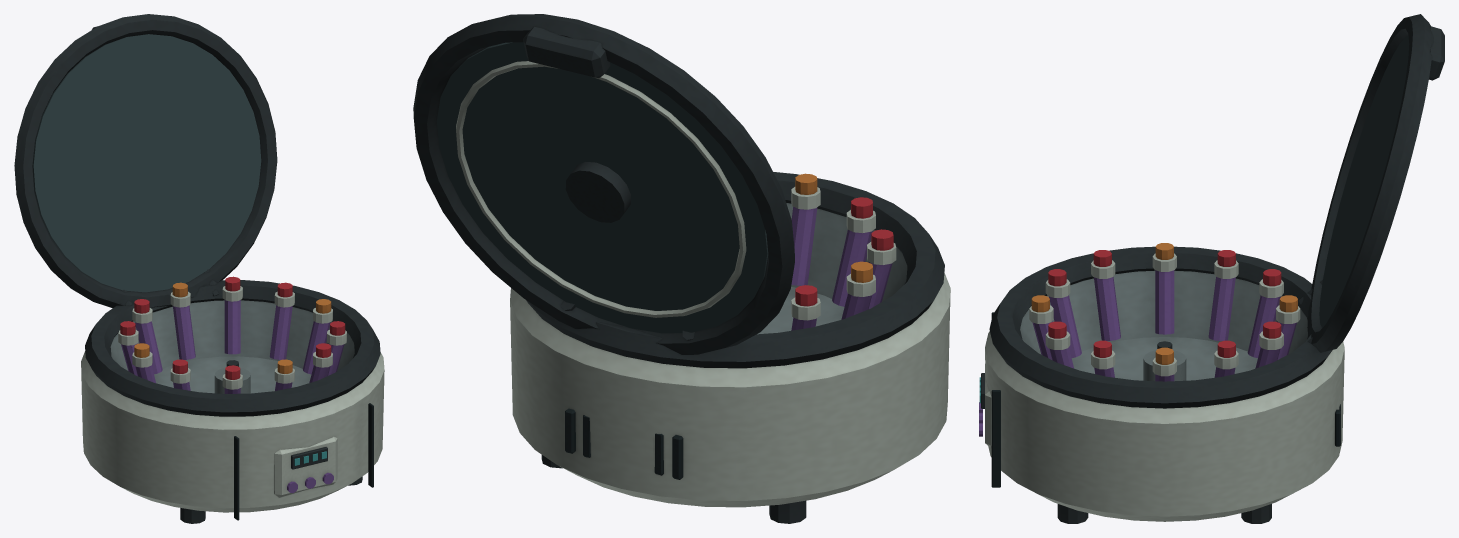
File: centrifuge.obj
3 views of the same model, side by side, from view 1: azimuth 30°, elevation 25°; view 2: azimuth 150°, elevation 25°; view 3: azimuth 270°, elevation 25° (orthographic). The views are drawn at different scales.
Parts seen in each view (by area): view 1: centrifuge_static_0, centrifuge_lid_14, centrifuge_lid_13, centrifuge_tube_01_2, centrifuge_tube_03_4, centrifuge_tube_02_3, centrifuge_tube_04_5, centrifuge_tube_00_1, centrifuge_tube_05_6, centrifuge_tube_11_12, centrifuge_tube_06_7, centrifuge_tube_10_11 (+3 smaller); view 2: centrifuge_static_0, centrifuge_lid_14, centrifuge_lid_13, centrifuge_tube_09_10, centrifuge_tube_08_9, centrifuge_tube_07_8, centrifuge_tube_06_7, centrifuge_tube_05_6; view 3: centrifuge_static_0, centrifuge_lid_13, centrifuge_lid_14, centrifuge_tube_05_6, centrifuge_tube_07_8, centrifuge_tube_06_7, centrifuge_tube_08_9, centrifuge_tube_04_5, centrifuge_tube_09_10, centrifuge_tube_03_4, centrifuge_tube_10_11, centrifuge_tube_02_3 (+3 smaller).
Boxes of the visible parts, box(x1,y1,x2,y2) form: centrifuge_static_0: box(81, 280, 384, 523); centrifuge_lid_14: box(32, 34, 261, 292); centrifuge_lid_13: box(14, 14, 277, 311); centrifuge_tube_01_2: box(269, 282, 294, 359); centrifuge_tube_03_4: box(170, 282, 195, 359); centrifuge_tube_02_3: box(222, 276, 242, 354); centrifuge_tube_04_5: box(132, 299, 162, 374); centrifuge_tube_00_1: box(303, 299, 332, 374); centrifuge_tube_05_6: box(118, 321, 138, 375); centrifuge_tube_11_12: box(327, 321, 346, 375); centrifuge_tube_06_7: box(132, 343, 155, 383); centrifuge_tube_10_11: box(309, 343, 332, 382); centrifuge_static_0: box(510, 172, 950, 523); centrifuge_lid_14: box(436, 42, 768, 333); centrifuge_lid_13: box(413, 14, 794, 354); centrifuge_tube_09_10: box(791, 173, 820, 285); centrifuge_tube_08_9: box(832, 197, 875, 306); centrifuge_tube_07_8: box(867, 229, 896, 308); centrifuge_tube_06_7: box(841, 261, 875, 319); centrifuge_tube_05_6: box(791, 285, 820, 330); centrifuge_static_0: box(979, 246, 1344, 523); centrifuge_lid_13: box(1299, 14, 1444, 352); centrifuge_lid_14: box(1319, 36, 1409, 327); centrifuge_tube_05_6: box(1208, 250, 1238, 340); centrifuge_tube_07_8: box(1091, 250, 1120, 340); centrifuge_tube_06_7: box(1152, 243, 1176, 334); centrifuge_tube_08_9: box(1045, 269, 1081, 357); centrifuge_tube_04_5: box(1247, 269, 1283, 358); centrifuge_tube_09_10: box(1029, 295, 1053, 359); centrifuge_tube_03_4: box(1276, 295, 1300, 359); centrifuge_tube_10_11: box(1045, 321, 1073, 368); centrifuge_tube_02_3: box(1255, 321, 1283, 368).
Size of the model in its own units: 0.47 by 0.6362 by 0.6082.
2 materials, 1 textured.
